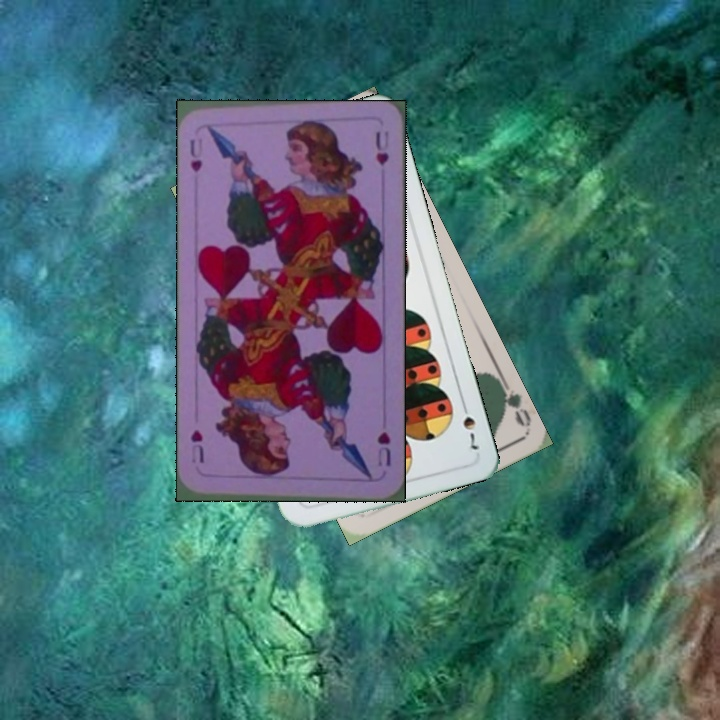GO: (494, 373, 533, 430)
HU: (373, 428, 393, 470), (186, 133, 205, 174)
S7: (457, 397, 481, 453)
